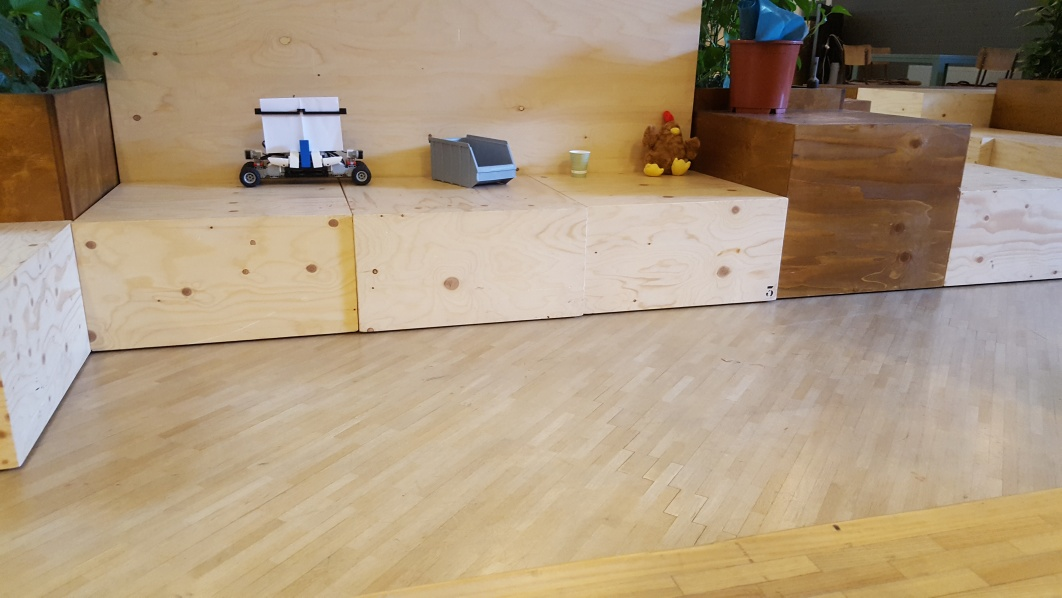car: (240, 96, 371, 187)
chicken: (640, 110, 702, 181)
cup: (570, 147, 593, 177)
tray: (427, 134, 521, 188)
